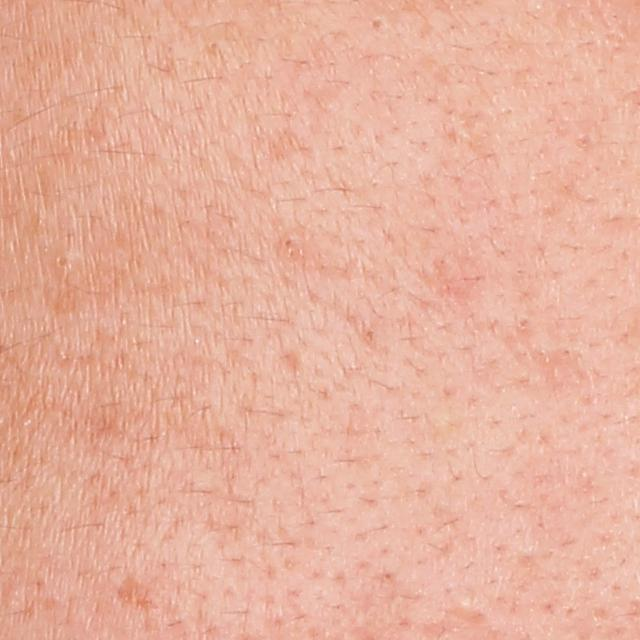atrophic_scar: (111, 572, 157, 622)
comedo: (365, 10, 391, 37), (48, 249, 75, 272), (276, 230, 300, 254), (514, 309, 532, 332)
